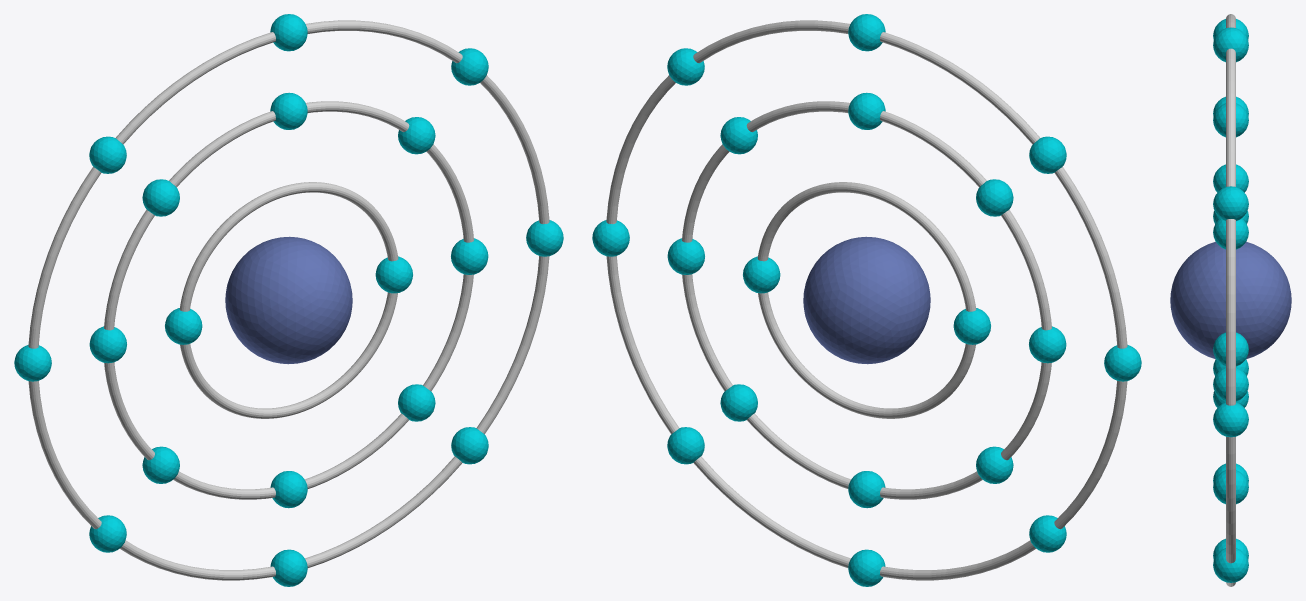
3 renders of one model, left to right at view 1: azimuth 30°, elevation 25°; view 2: azimuth 150°, elevation 25°; view 3: azimuth 270°, elevation 25°, orthographic. The views are drawn at different scales.
Parts seen in each view (by area): view 1: Camada_3, Nucleo_Ar, Camada_2, Camada_1, e2_4, e3_4, e2_8, e3_8, e3_5, e1_2, e2_5, e3_3 (+10 smaller); view 2: Camada_3, Nucleo_Ar, Camada_2, Camada_1, e2_4, e3_4, e2_8, e3_8, e3_5, e1_2, e2_5, e3_3 (+10 smaller); view 3: Nucleo_Ar, Camada_3, e3_2, e3_1, e3_3, e3_8, e2_8, e2_3, e1_1, e2_1, e2_2, e3_5 (+6 smaller).
Boxes of the visible parts, box(x1,y1,x2,y2) form: Camada_3: box(28, 20, 549, 580); Nucleo_Ar: box(225, 236, 352, 364); Camada_2: box(104, 101, 473, 499); Camada_1: box(179, 182, 398, 418); e2_4: box(142, 179, 179, 216); e3_4: box(89, 136, 126, 173); e2_8: box(398, 384, 435, 421); e3_8: box(451, 427, 488, 464); e3_5: box(14, 344, 51, 381); e1_2: box(165, 308, 202, 344); e2_5: box(89, 326, 126, 363); e3_3: box(270, 14, 307, 51); Camada_3: box(606, 20, 1127, 580); Nucleo_Ar: box(803, 236, 930, 364); Camada_2: box(682, 101, 1051, 499); Camada_1: box(757, 182, 976, 418); e2_4: box(976, 179, 1013, 216); e3_4: box(1029, 136, 1066, 173); e2_8: box(720, 384, 757, 421); e3_8: box(667, 427, 704, 464); e3_5: box(1104, 344, 1141, 381); e1_2: box(953, 308, 990, 344); e2_5: box(1029, 326, 1066, 363); e3_3: box(848, 14, 885, 51); Nucleo_Ar: box(1170, 242, 1291, 359); Camada_3: box(1226, 14, 1235, 586); e3_2: box(1213, 186, 1248, 220); e3_1: box(1213, 402, 1248, 437); e3_3: box(1213, 27, 1248, 62); e3_8: box(1213, 548, 1248, 582); e2_8: box(1213, 470, 1248, 504); e2_3: box(1213, 103, 1248, 137); e1_1: box(1213, 332, 1248, 366); e2_1: box(1213, 367, 1248, 401); e2_2: box(1213, 218, 1248, 249); e3_5: box(1213, 164, 1248, 192).
Bounding box in the file's own units: 2.17 × 2.17 × 0.44.
